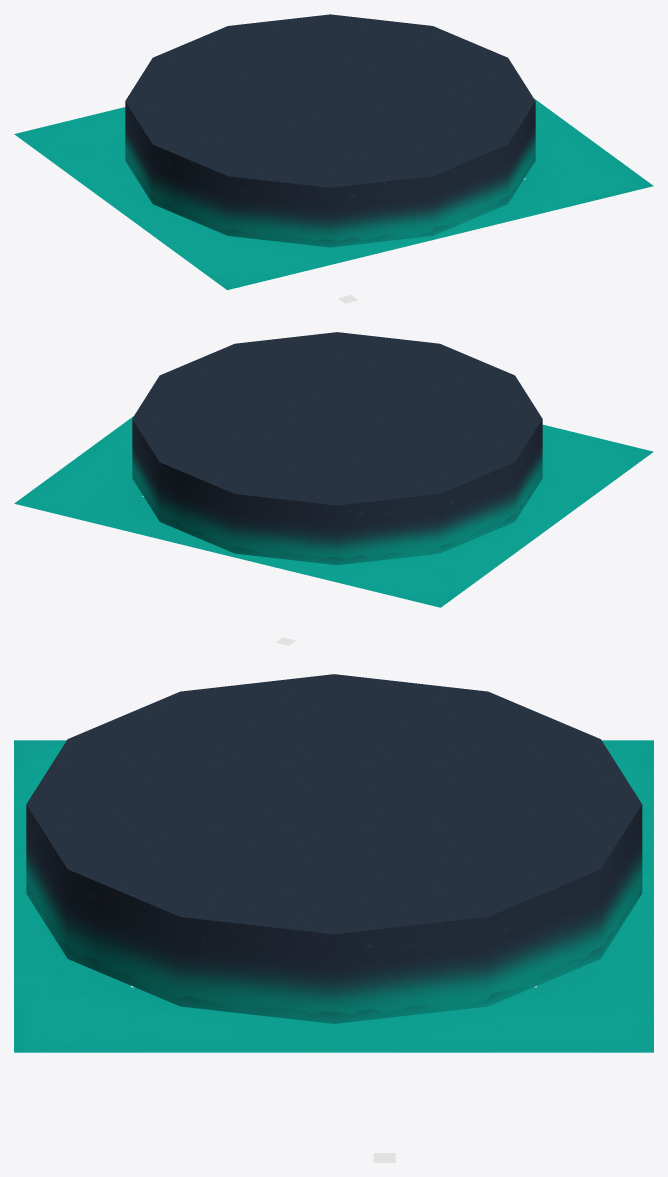
Rendered from graal_mountain.glb.
The picture shows the model from 3 angles, top to bottom: view 1: azimuth 30°, elevation 25°; view 2: azimuth 150°, elevation 25°; view 3: azimuth 270°, elevation 25°; orthographic projection. The views are drawn at different scales.
Visible parts, largest first — view 1: graalbackground, bottomwater; view 2: graalbackground, bottomwater; view 3: graalbackground, bottomwater.
Part boxes in pixels (x1,y1,x2,y2): graalbackground: (125, 14, 535, 247); bottomwater: (14, 98, 653, 290); graalbackground: (132, 332, 542, 565); bottomwater: (14, 416, 653, 607); graalbackground: (26, 674, 642, 1023); bottomwater: (14, 740, 653, 1052).
Bounding box in the file's own units: 1640 × 804 × 1420.
36 materials, 35 textured.
